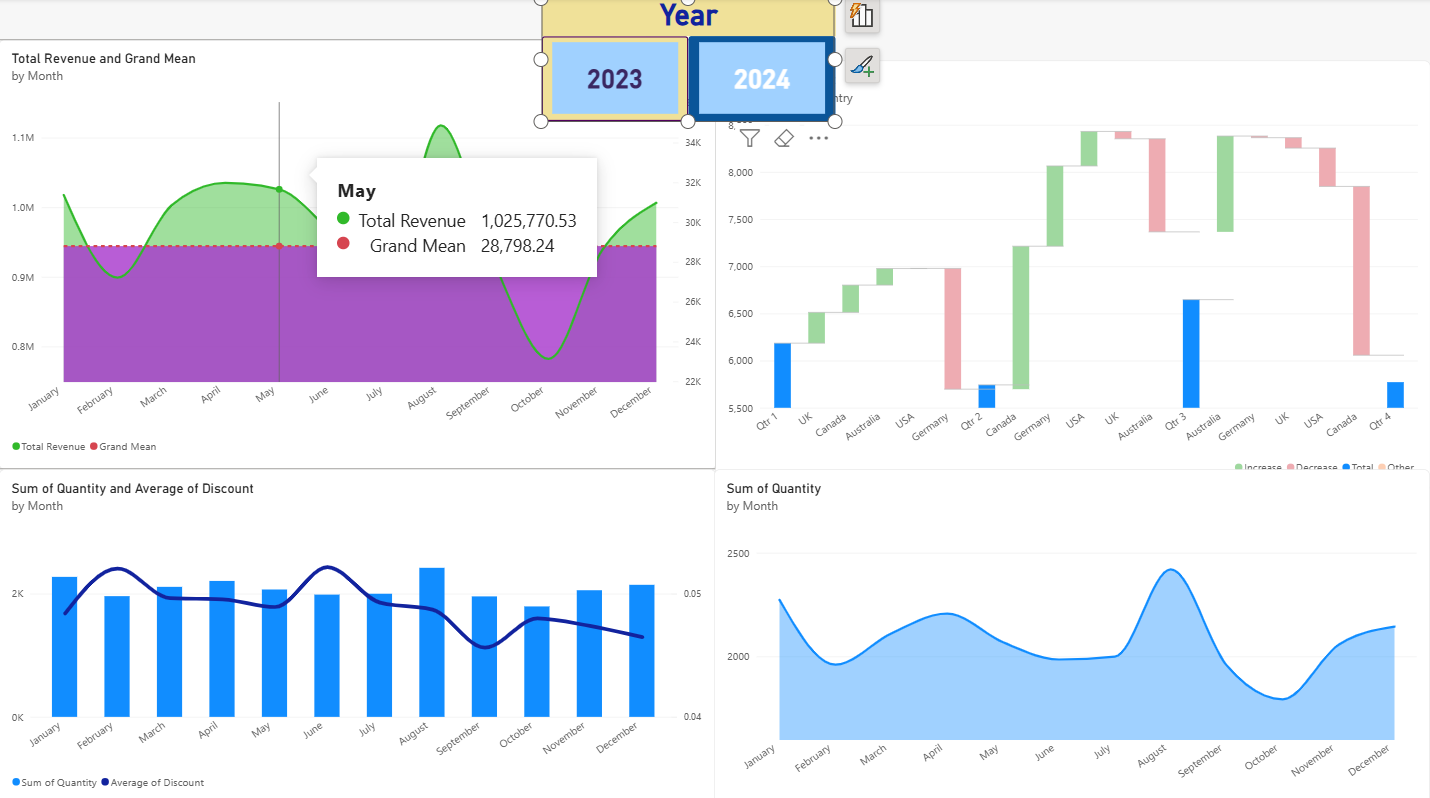

Layout of this report page (visuals, bound fields, positions):
{"tool":"powerbi","page":{"name":"descriptive page","canvas":[1920,1080],"ordinal":1},"visuals":[{"type":"lineChart","fields":{"Category":["Dim Date.Date.Variation.Date Hierarchy.Month"],"Y":["Fact_Sales.Total Revenue"],"Y2":["Fact_Sales.Grand Mean"]},"box":[0,55,960.9,576.6],"z":0},{"type":"waterfallChart","fields":{"Breakdown":["Stores.Location.Country"],"Category":["Dim Date.Date.Variation.Date Hierarchy.Quarter"],"Y":["Max(Fact_Sales.Total Profit)"]},"box":[960,83.7,958.6,576.6],"z":1},{"type":"advancedSlicerVisual","fields":{"Values":["Dim Date.Date.Variation.Date Hierarchy.Year"]},"box":[726.6,0,394.1,165.1],"z":3},{"type":"lineClusteredColumnComboChart","fields":{"Category":["Dim Date.Date.Variation.Date Hierarchy.Month"],"Y":["Sum(Fact_Sales.Quantity)"],"Y2":["Avg(Fact_Sales.Discount)"]},"box":[0,631.9,961,450],"z":4},{"type":"stackedAreaChart","fields":{"Category":["Dim Date.Date.Variation.Date Hierarchy.Month"],"Y":["Sum(Fact_Sales.Quantity)"]},"box":[957.8,631.9,959,450],"z":5}]}

Visuals, with their boxes on the page's 1920x1080 design canvas (x1, y1, x2, y2). These are canvas units, not pixel positions in the 1430x798 screenshot, which may show the page scaled, cropped or inside an application window:
lineChart - Dim Date.Date.Variation.Date Hierarchy.Month x Fact_Sales.Total Revenue: left=0, top=55, right=961, bottom=632
waterfallChart - Stores.Location.Country x Dim Date.Date.Variation.Date Hierarchy.Quarter: left=960, top=84, right=1919, bottom=660
advancedSlicerVisual - Dim Date.Date.Variation.Date Hierarchy.Year: left=727, top=0, right=1121, bottom=165
lineClusteredColumnComboChart - Dim Date.Date.Variation.Date Hierarchy.Month x Sum(Fact_Sales.Quantity): left=0, top=632, right=961, bottom=1082
stackedAreaChart - Dim Date.Date.Variation.Date Hierarchy.Month x Sum(Fact_Sales.Quantity): left=958, top=632, right=1917, bottom=1082
